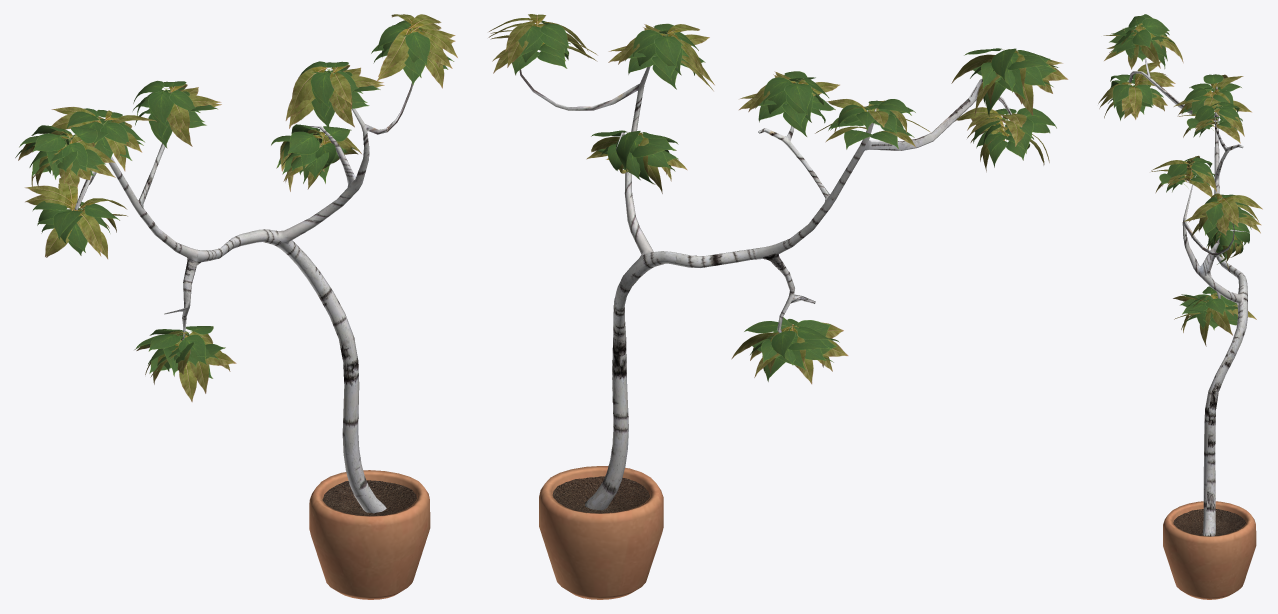
The picture shows the model from 3 angles, left to right: view 1: azimuth 30°, elevation 25°; view 2: azimuth 150°, elevation 25°; view 3: azimuth 270°, elevation 25°; orthographic projection. The views are drawn at different scales.
Parts seen in each view (by area): view 1: pot, Tree, Dirt, Leaf116, Leaf_048, Leaf74; view 2: Tree, pot, Dirt; view 3: pot, Tree, Dirt, Leaf115 (×2), Leaf_018, Leaf_026, Leaf_084, Leaf22, Leaf114, Leaf29, Leaf_085, Leaf80.
Part boxes in pixels (x1,y1,x2,y2): pot: (309,470,430,599); Tree: (74,83,412,513); Dirt: (322,480,416,515); Leaf116: (287,131,321,154); Leaf_048: (292,66,327,109); Leaf74: (148,88,173,127); Tree: (519,66,1011,510); pot: (539,466,663,599); Dirt: (552,476,649,513); pot: (1163,501,1256,599); Tree: (1129,58,1248,536); Dirt: (1173,509,1245,535); Leaf115 (×2): (1138,18,1249,243); Leaf_018: (1221,198,1238,222); Leaf_026: (1128,86,1142,113); Leaf_084: (1211,309,1233,335); Leaf22: (1206,199,1223,228); Leaf114: (1132,29,1151,48); Leaf29: (1113,84,1131,104); Leaf_085: (1139,42,1160,68); Leaf80: (1195,105,1217,122).
Size of the model in its own units: 109 by 122 by 42.17.
Materials: 5 (5 with a texture image).
